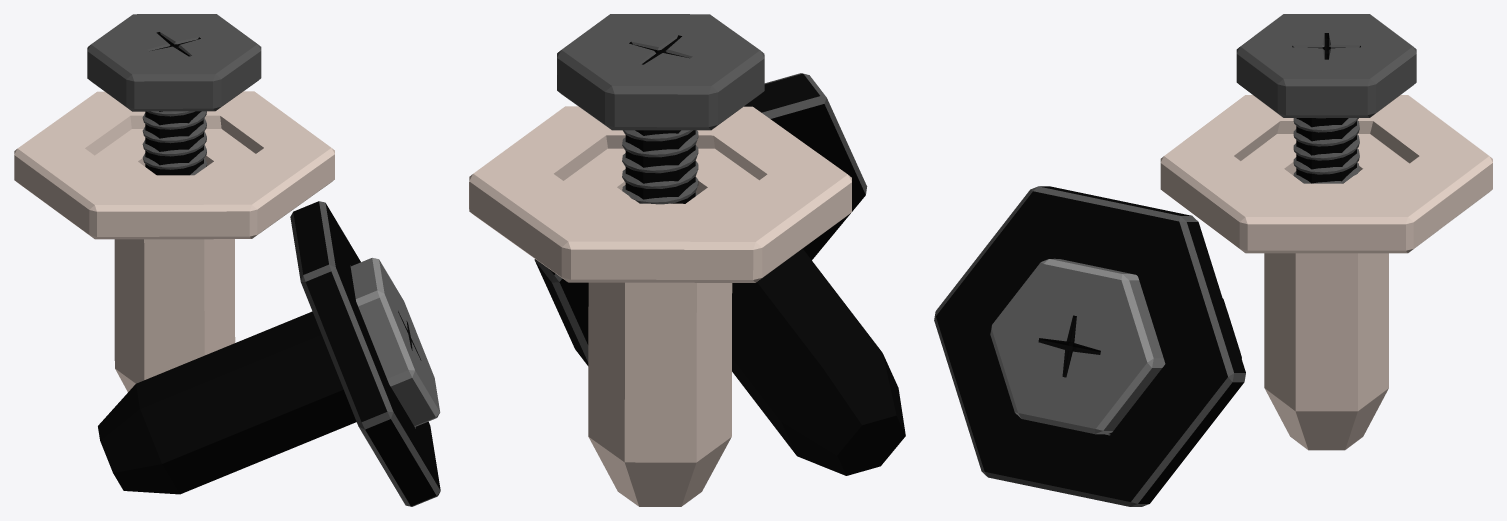
The model's file is SM_Int_Rivets.fbx.
3 views of the same model, side by side, from view 1: azimuth 30°, elevation 25°; view 2: azimuth 150°, elevation 25°; view 3: azimuth 270°, elevation 25° (orthographic). The views are drawn at different scales.
Parts seen in each view (by area): view 1: Circle.001; view 2: Circle.001; view 3: Circle.001.
Boxes of the visible parts, x1=… form: Circle.001: x1=14, y1=14, x2=440, y2=506; Circle.001: x1=469, y1=14, x2=905, y2=506; Circle.001: x1=934, y1=14, x2=1492, y2=506.
Bounding box in the file's own units: 0.325 × 0.3851 × 0.5.
2 materials, 2 textured.
